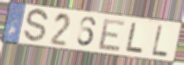2: (48, 12, 73, 48)
6: (76, 16, 97, 48)
E: (96, 18, 127, 52)
L: (150, 24, 169, 59), (125, 22, 145, 54)
S: (22, 8, 50, 45)
